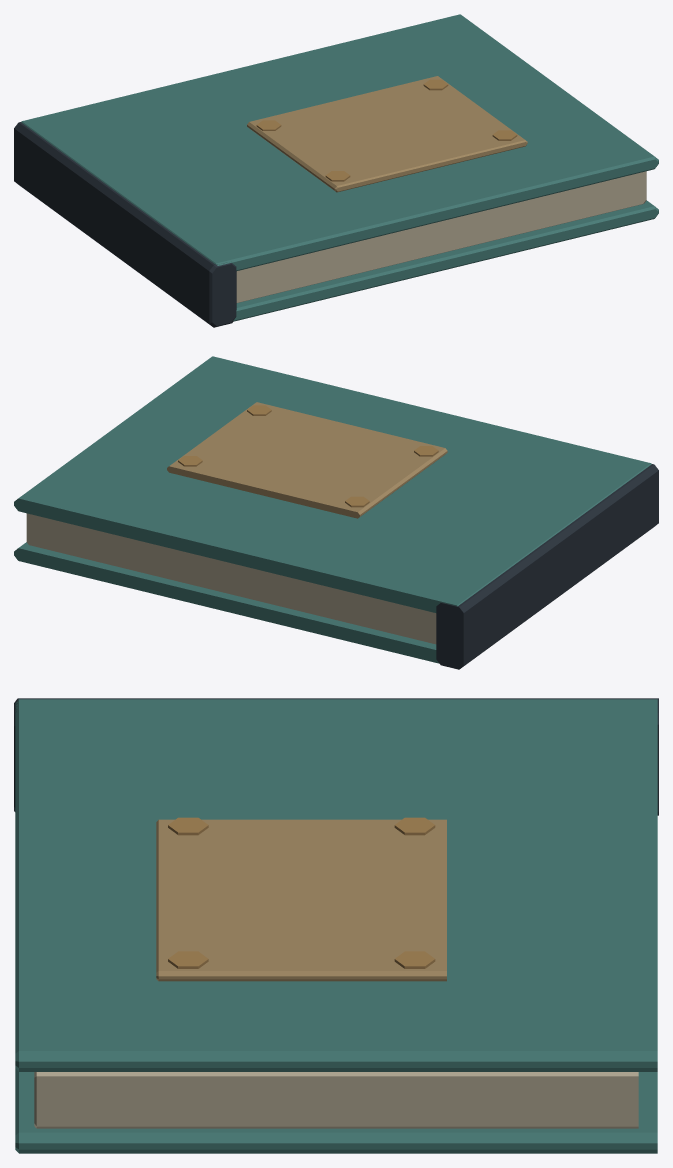
The model's file is H-09_album.glb.
3 views of the same model, one above another, from view 1: azimuth 30°, elevation 25°; view 2: azimuth 150°, elevation 25°; view 3: azimuth 270°, elevation 25° (orthographic). The views are drawn at different scales.
Visible parts, largest first — view 1: H-09_album; view 2: H-09_album; view 3: H-09_album.
Part boxes in pixels (box(x1,y1,x2,y2)): H-09_album: box(14, 14, 658, 327); H-09_album: box(14, 356, 658, 669); H-09_album: box(14, 698, 658, 1153).
Bounding box in the file's own units: 0.294 × 0.0445 × 0.222.
